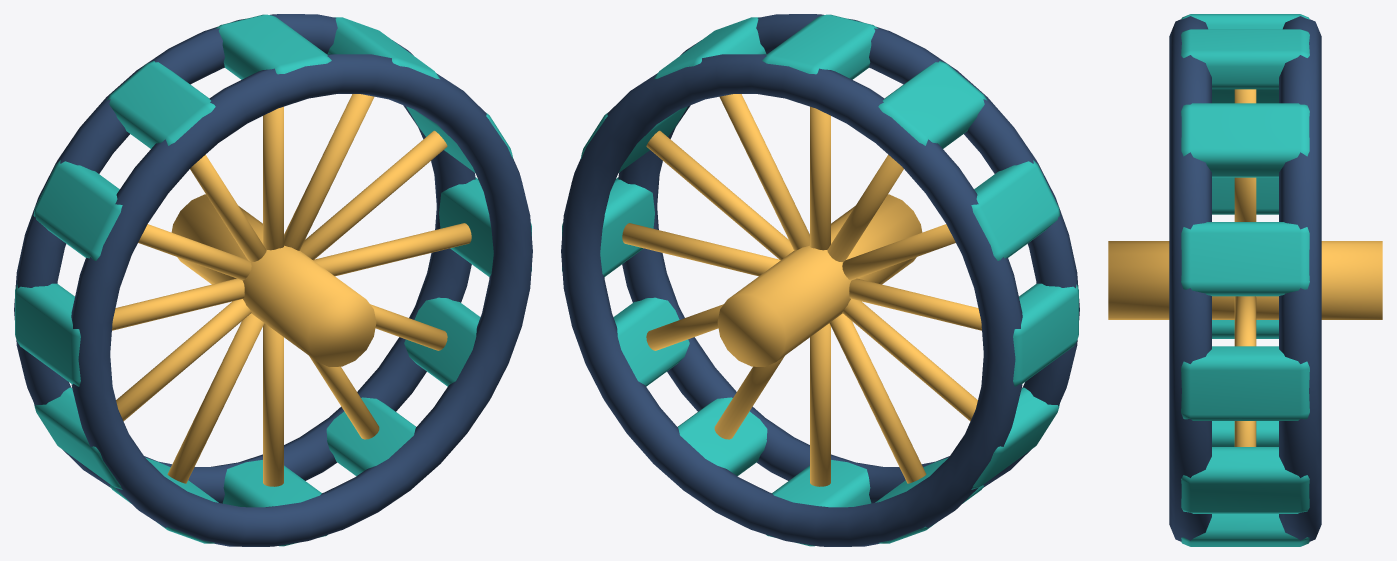
Rendered from water-wheel-lite.glb.
The picture shows the model from 3 angles, left to right: view 1: azimuth 30°, elevation 25°; view 2: azimuth 150°, elevation 25°; view 3: azimuth 270°, elevation 25°; orthographic projection.
Visible parts, largest first — view 1: Wheel rim; view 2: Wheel rim; view 3: Wheel rim.
Part boxes in pixels (x1,y1,x2,y2): Wheel rim: (14,14,532,546); Wheel rim: (561,14,1079,546); Wheel rim: (1108,14,1382,546).
Size of the model in its own units: 1.74 by 1.74 by 0.9.
